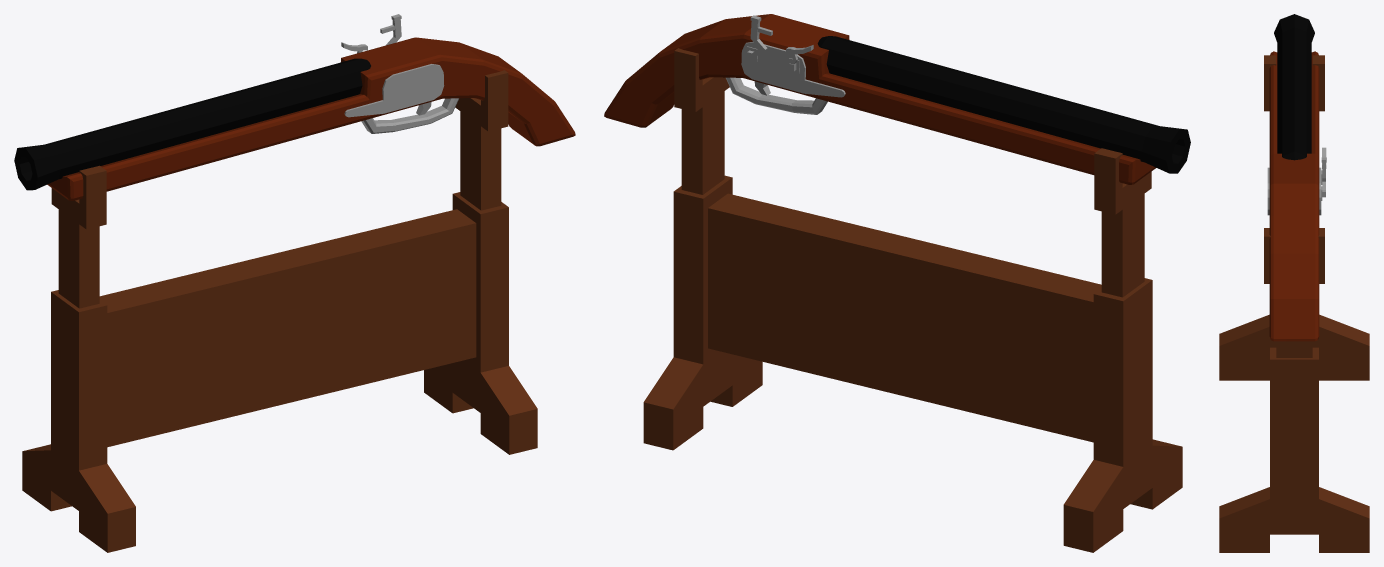
Rendered from Gun.fbx.
3 renders of one model, left to right at view 1: azimuth 30°, elevation 25°; view 2: azimuth 150°, elevation 25°; view 3: azimuth 270°, elevation 25°, orthographic. The views are drawn at different scales.
Parts seen in each view (by area): view 1: Gun; view 2: Gun; view 3: Gun.
Part boxes in pixels (bbox=[...]): Gun: bbox=[14, 14, 575, 552]; Gun: bbox=[604, 14, 1190, 552]; Gun: bbox=[1219, 14, 1369, 552].
Size of the model in its own units: 27.05 by 19.61 by 7.43.
